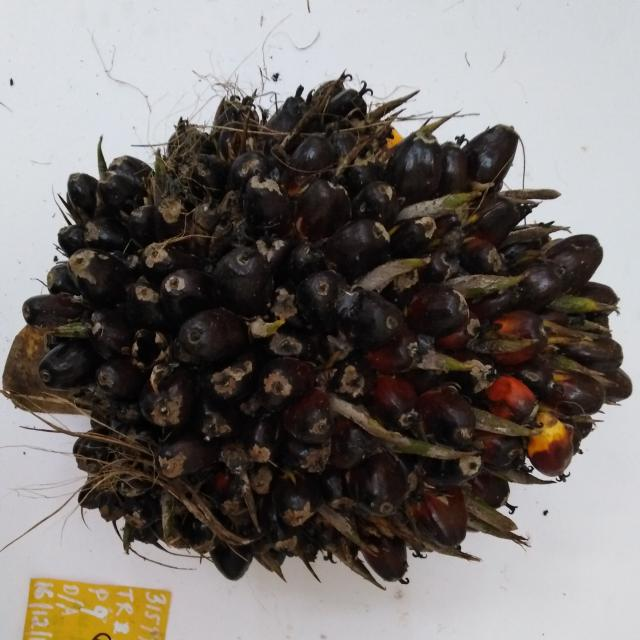FFB: (58, 82, 620, 570)
